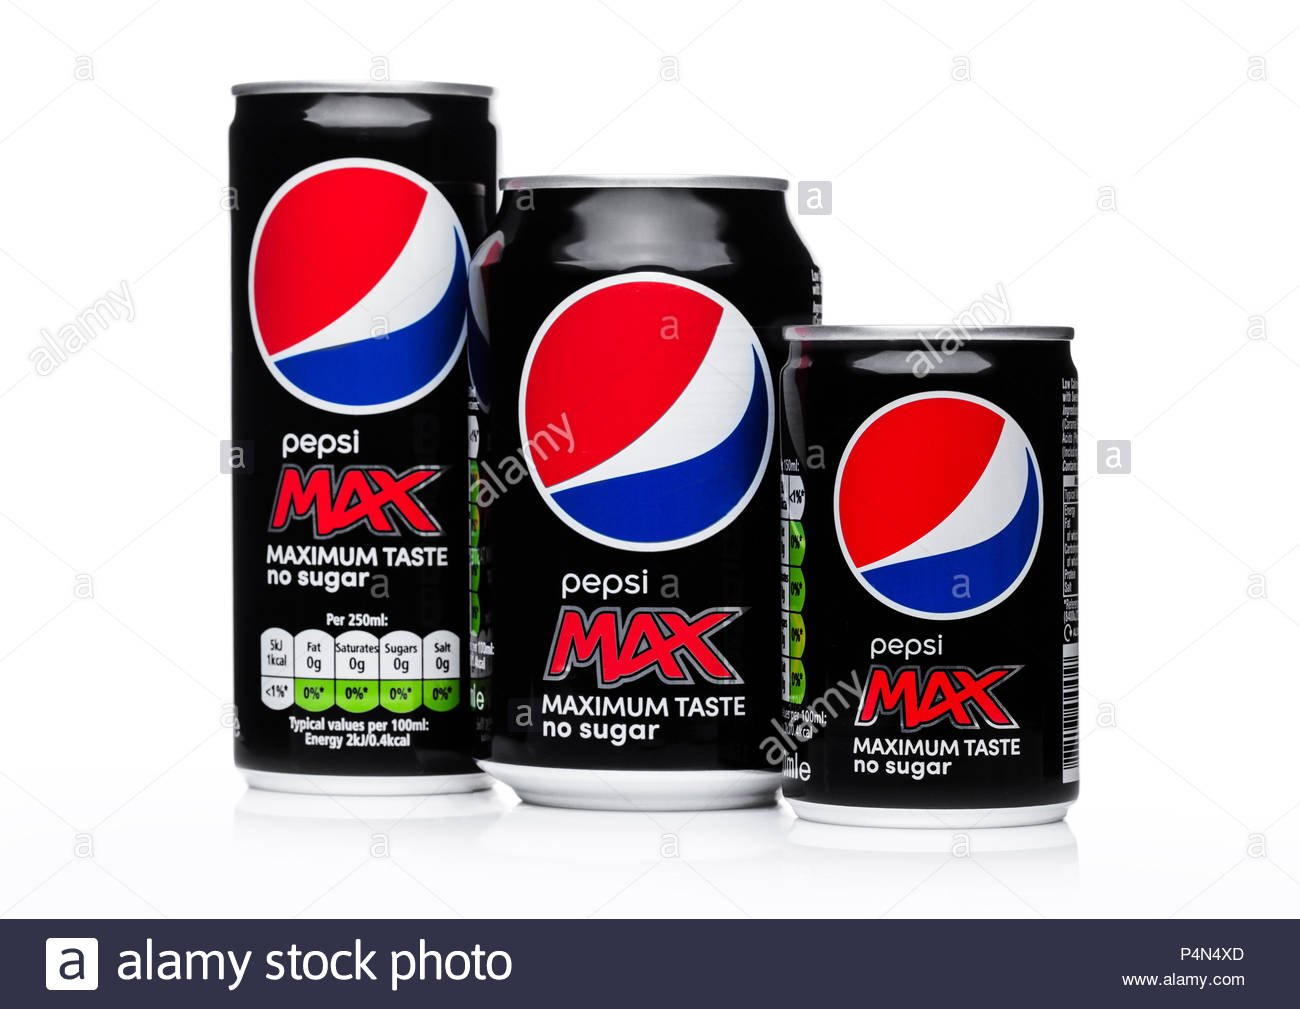pepsi: (513, 266, 771, 548), (513, 271, 771, 548), (519, 271, 771, 548), (246, 152, 464, 413), (825, 393, 1041, 621), (825, 398, 1041, 621)
